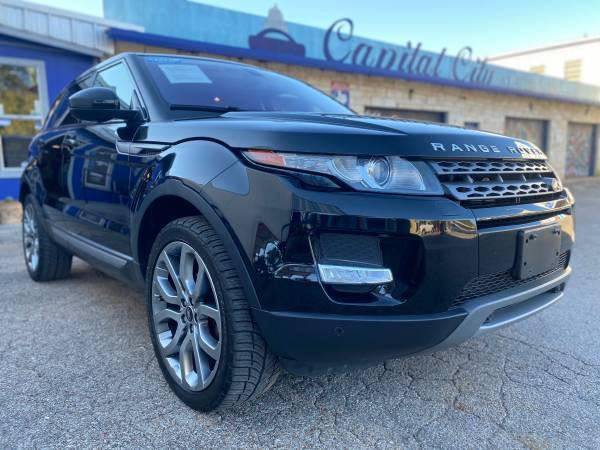Front_Bumper: (193, 159, 578, 369)
Front_Fender: (131, 126, 240, 276)
Front_Right_Door: (62, 122, 141, 281)
Front_Right_Window: (75, 63, 147, 122)
Front_Windshield: (140, 51, 360, 117)
Grille: (420, 157, 566, 209)
Hood: (141, 110, 552, 160)
Rear_Right_Door: (21, 126, 71, 247)
Rear_Right_Window: (38, 71, 93, 131)
Right_Headlight: (229, 152, 435, 195)
Roof: (60, 53, 171, 122)
Wheel: (144, 212, 278, 407), (19, 195, 73, 280)
